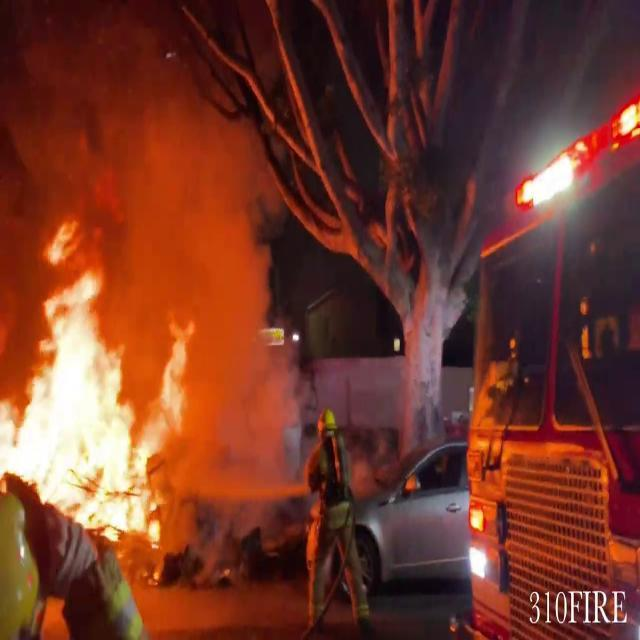Fire: (0, 224, 204, 562)
Smoke: (2, 1, 286, 324), (140, 58, 308, 530)
